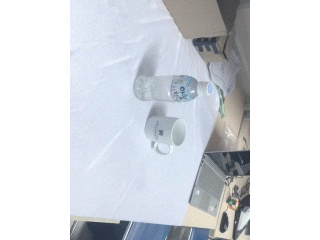bottle: (133, 75, 213, 103)
box: (154, 1, 240, 39)
cup: (144, 115, 187, 155)
mouse: (219, 211, 229, 233)
